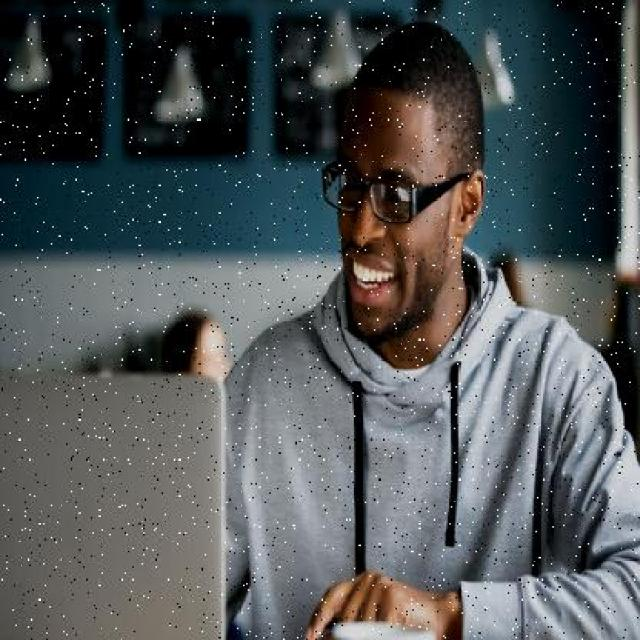glasses: (312, 147, 456, 233)
